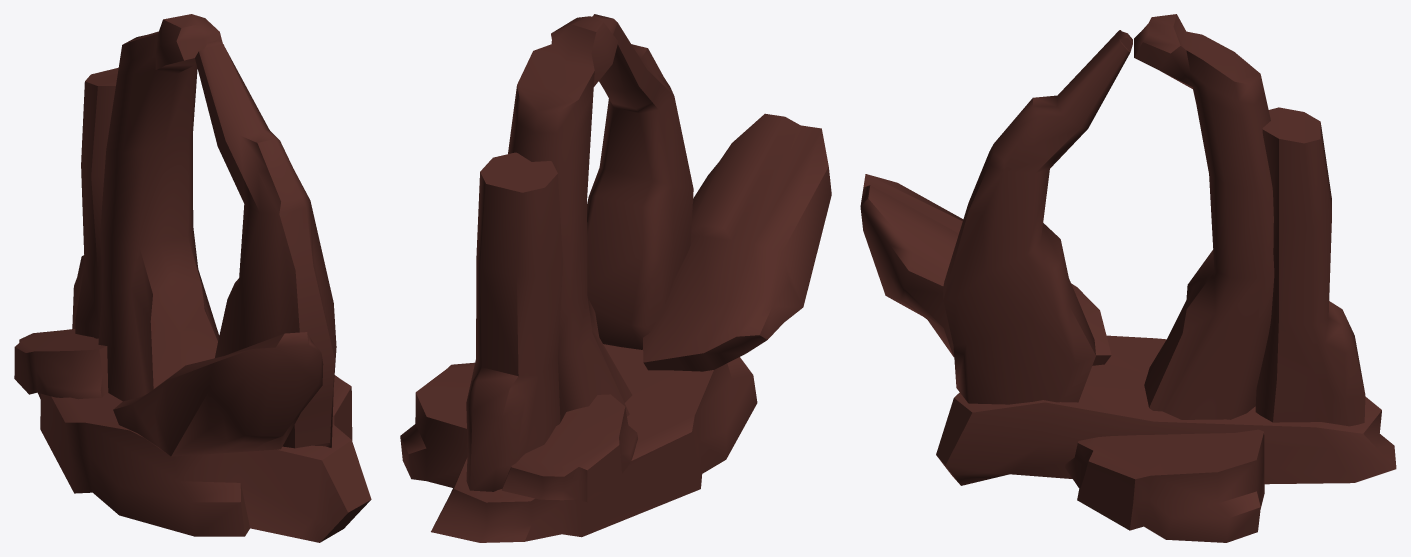
The model's file is SM_big_rock_complex_B.fbx.
3 views of the same model, side by side, from view 1: azimuth 30°, elevation 25°; view 2: azimuth 150°, elevation 25°; view 3: azimuth 270°, elevation 25° (orthographic).
Parts seen in each view (by area): view 1: polySurface1; view 2: polySurface1; view 3: polySurface1.
Part boxes in pixels (left/top/right/bottom): polySurface1: left=14, top=14, right=371, bottom=542; polySurface1: left=400, top=14, right=831, bottom=542; polySurface1: left=860, top=14, right=1396, bottom=542.
Size of the model in its own units: 1024 by 1594 by 1725.
